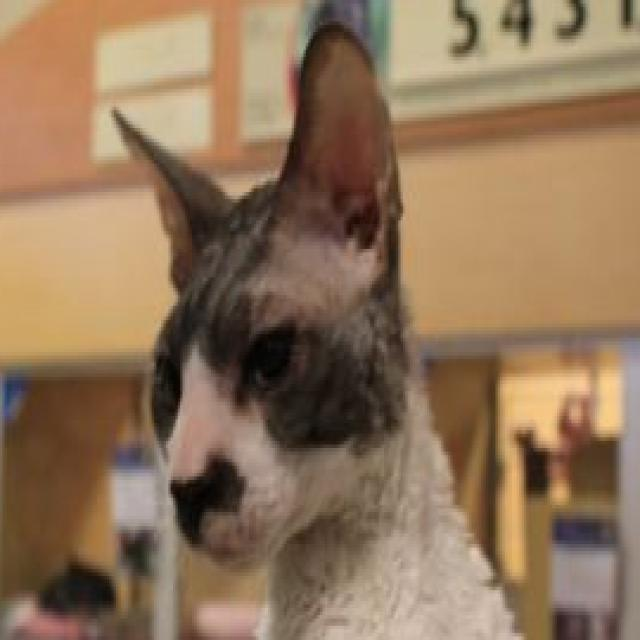Cornish Rex: (106, 10, 583, 640)
